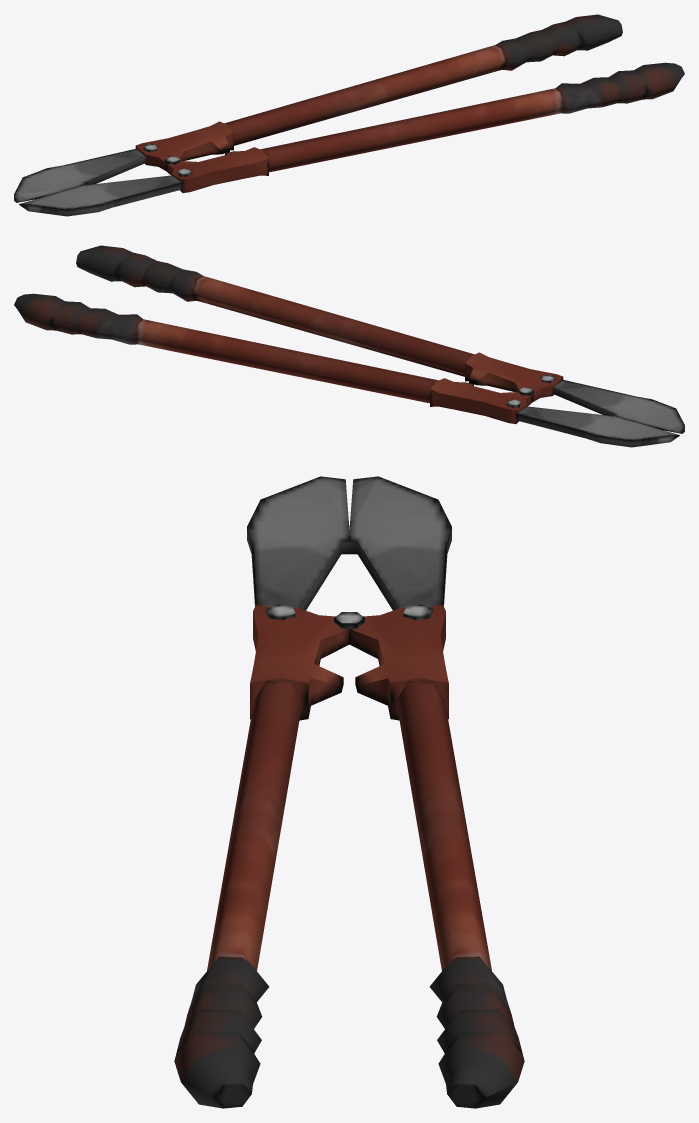
The model's file is Cutters_Asset.fbx.
3 renders of one model, top to bottom at view 1: azimuth 30°, elevation 25°; view 2: azimuth 150°, elevation 25°; view 3: azimuth 270°, elevation 25°, orthographic. The views are drawn at different scales.
Parts seen in each view (by area): view 1: Cutters; view 2: Cutters; view 3: Cutters.
Boxes of the visible parts, x1,y1,x2,y2 form: Cutters: (14, 14, 684, 216); Cutters: (14, 245, 684, 447); Cutters: (174, 476, 524, 1108).
Bounding box in the file's own units: 86.08 × 20.61 × 3.37.
Materials: 1 (1 with a texture image).
